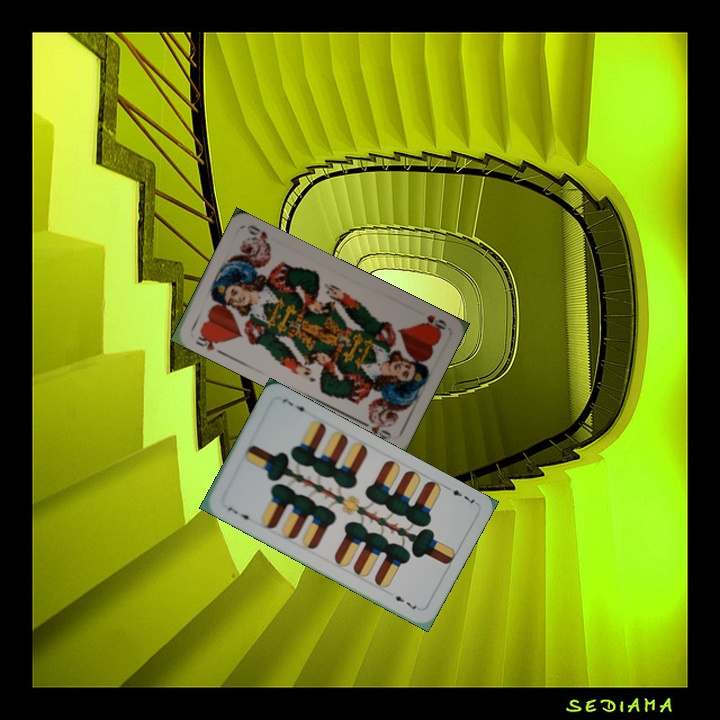E7: (442, 482, 479, 507), (223, 503, 254, 525)
HO: (192, 328, 226, 354), (419, 311, 449, 335)
